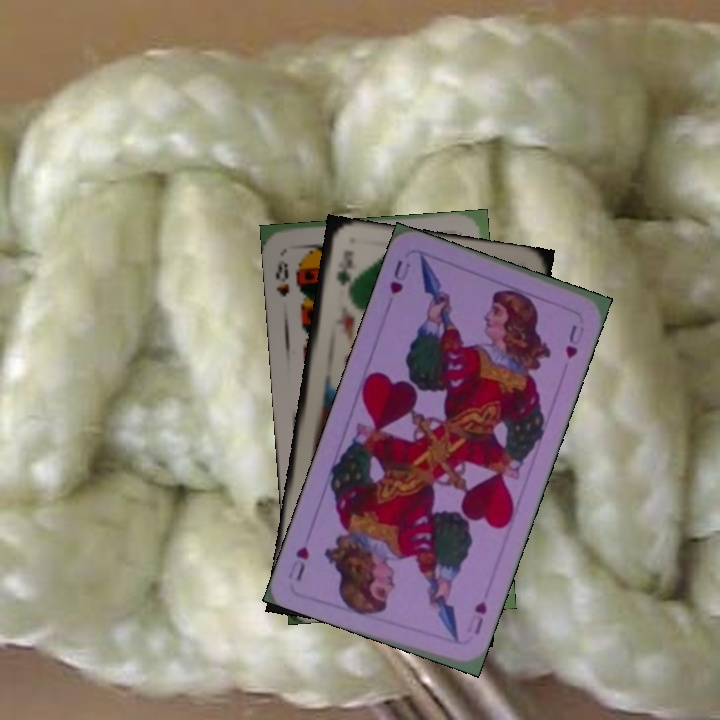GK: (332, 253, 355, 288)
HU: (385, 256, 413, 297), (463, 597, 490, 638)
S8: (271, 256, 292, 300)
